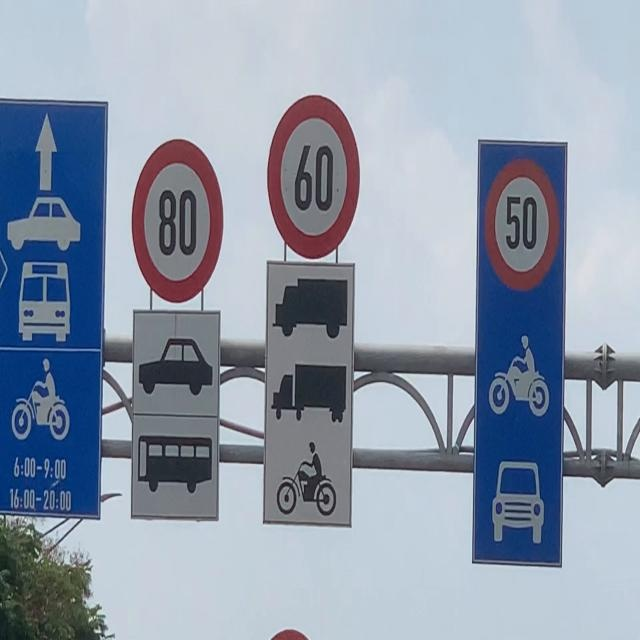bien_cam: (267, 93, 361, 261), (130, 138, 225, 304), (485, 158, 561, 292)
